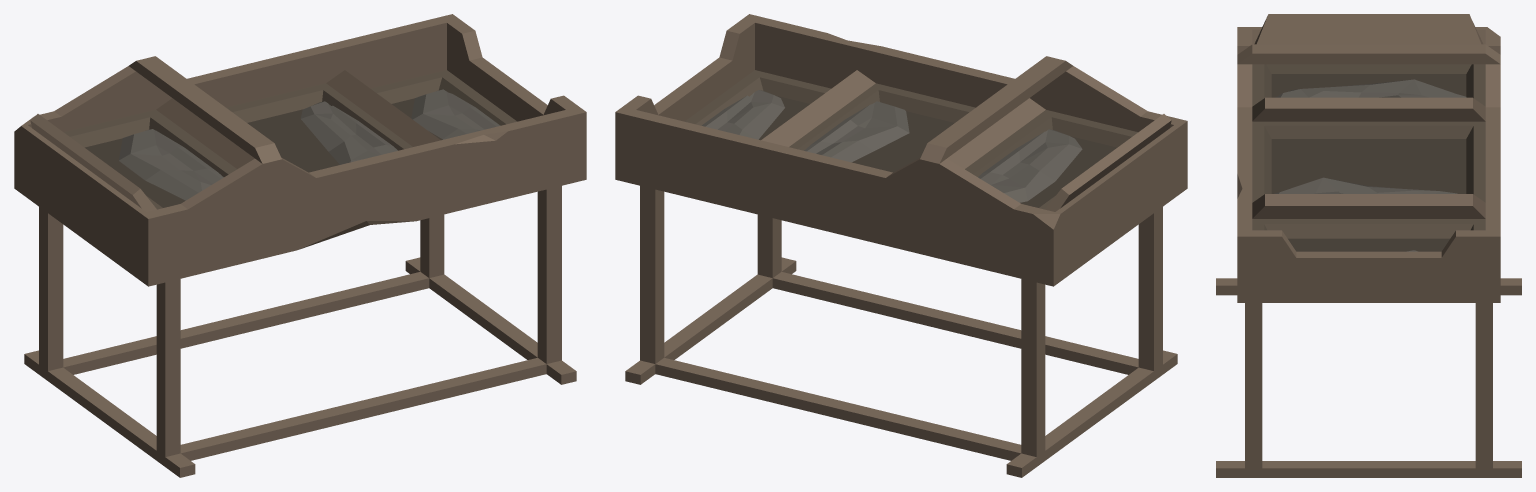
The model's file is SM_Prop_Shifting_Table_01.glb.
3 views of the same model, side by side, from view 1: azimuth 30°, elevation 25°; view 2: azimuth 150°, elevation 25°; view 3: azimuth 270°, elevation 25° (orthographic).
Parts seen in each view (by area): view 1: SM_Prop_Shifting_Table_01; view 2: SM_Prop_Shifting_Table_01; view 3: SM_Prop_Shifting_Table_01.
Boxes of the visible parts, <box> form: SM_Prop_Shifting_Table_01: <box>14,14,586,477</box>; SM_Prop_Shifting_Table_01: <box>615,14,1187,477</box>; SM_Prop_Shifting_Table_01: <box>1216,14,1521,477</box>.
Bounding box in the file's own units: 1.23 × 0.7869 × 0.7563.
Materials: 1 (1 with a texture image).
